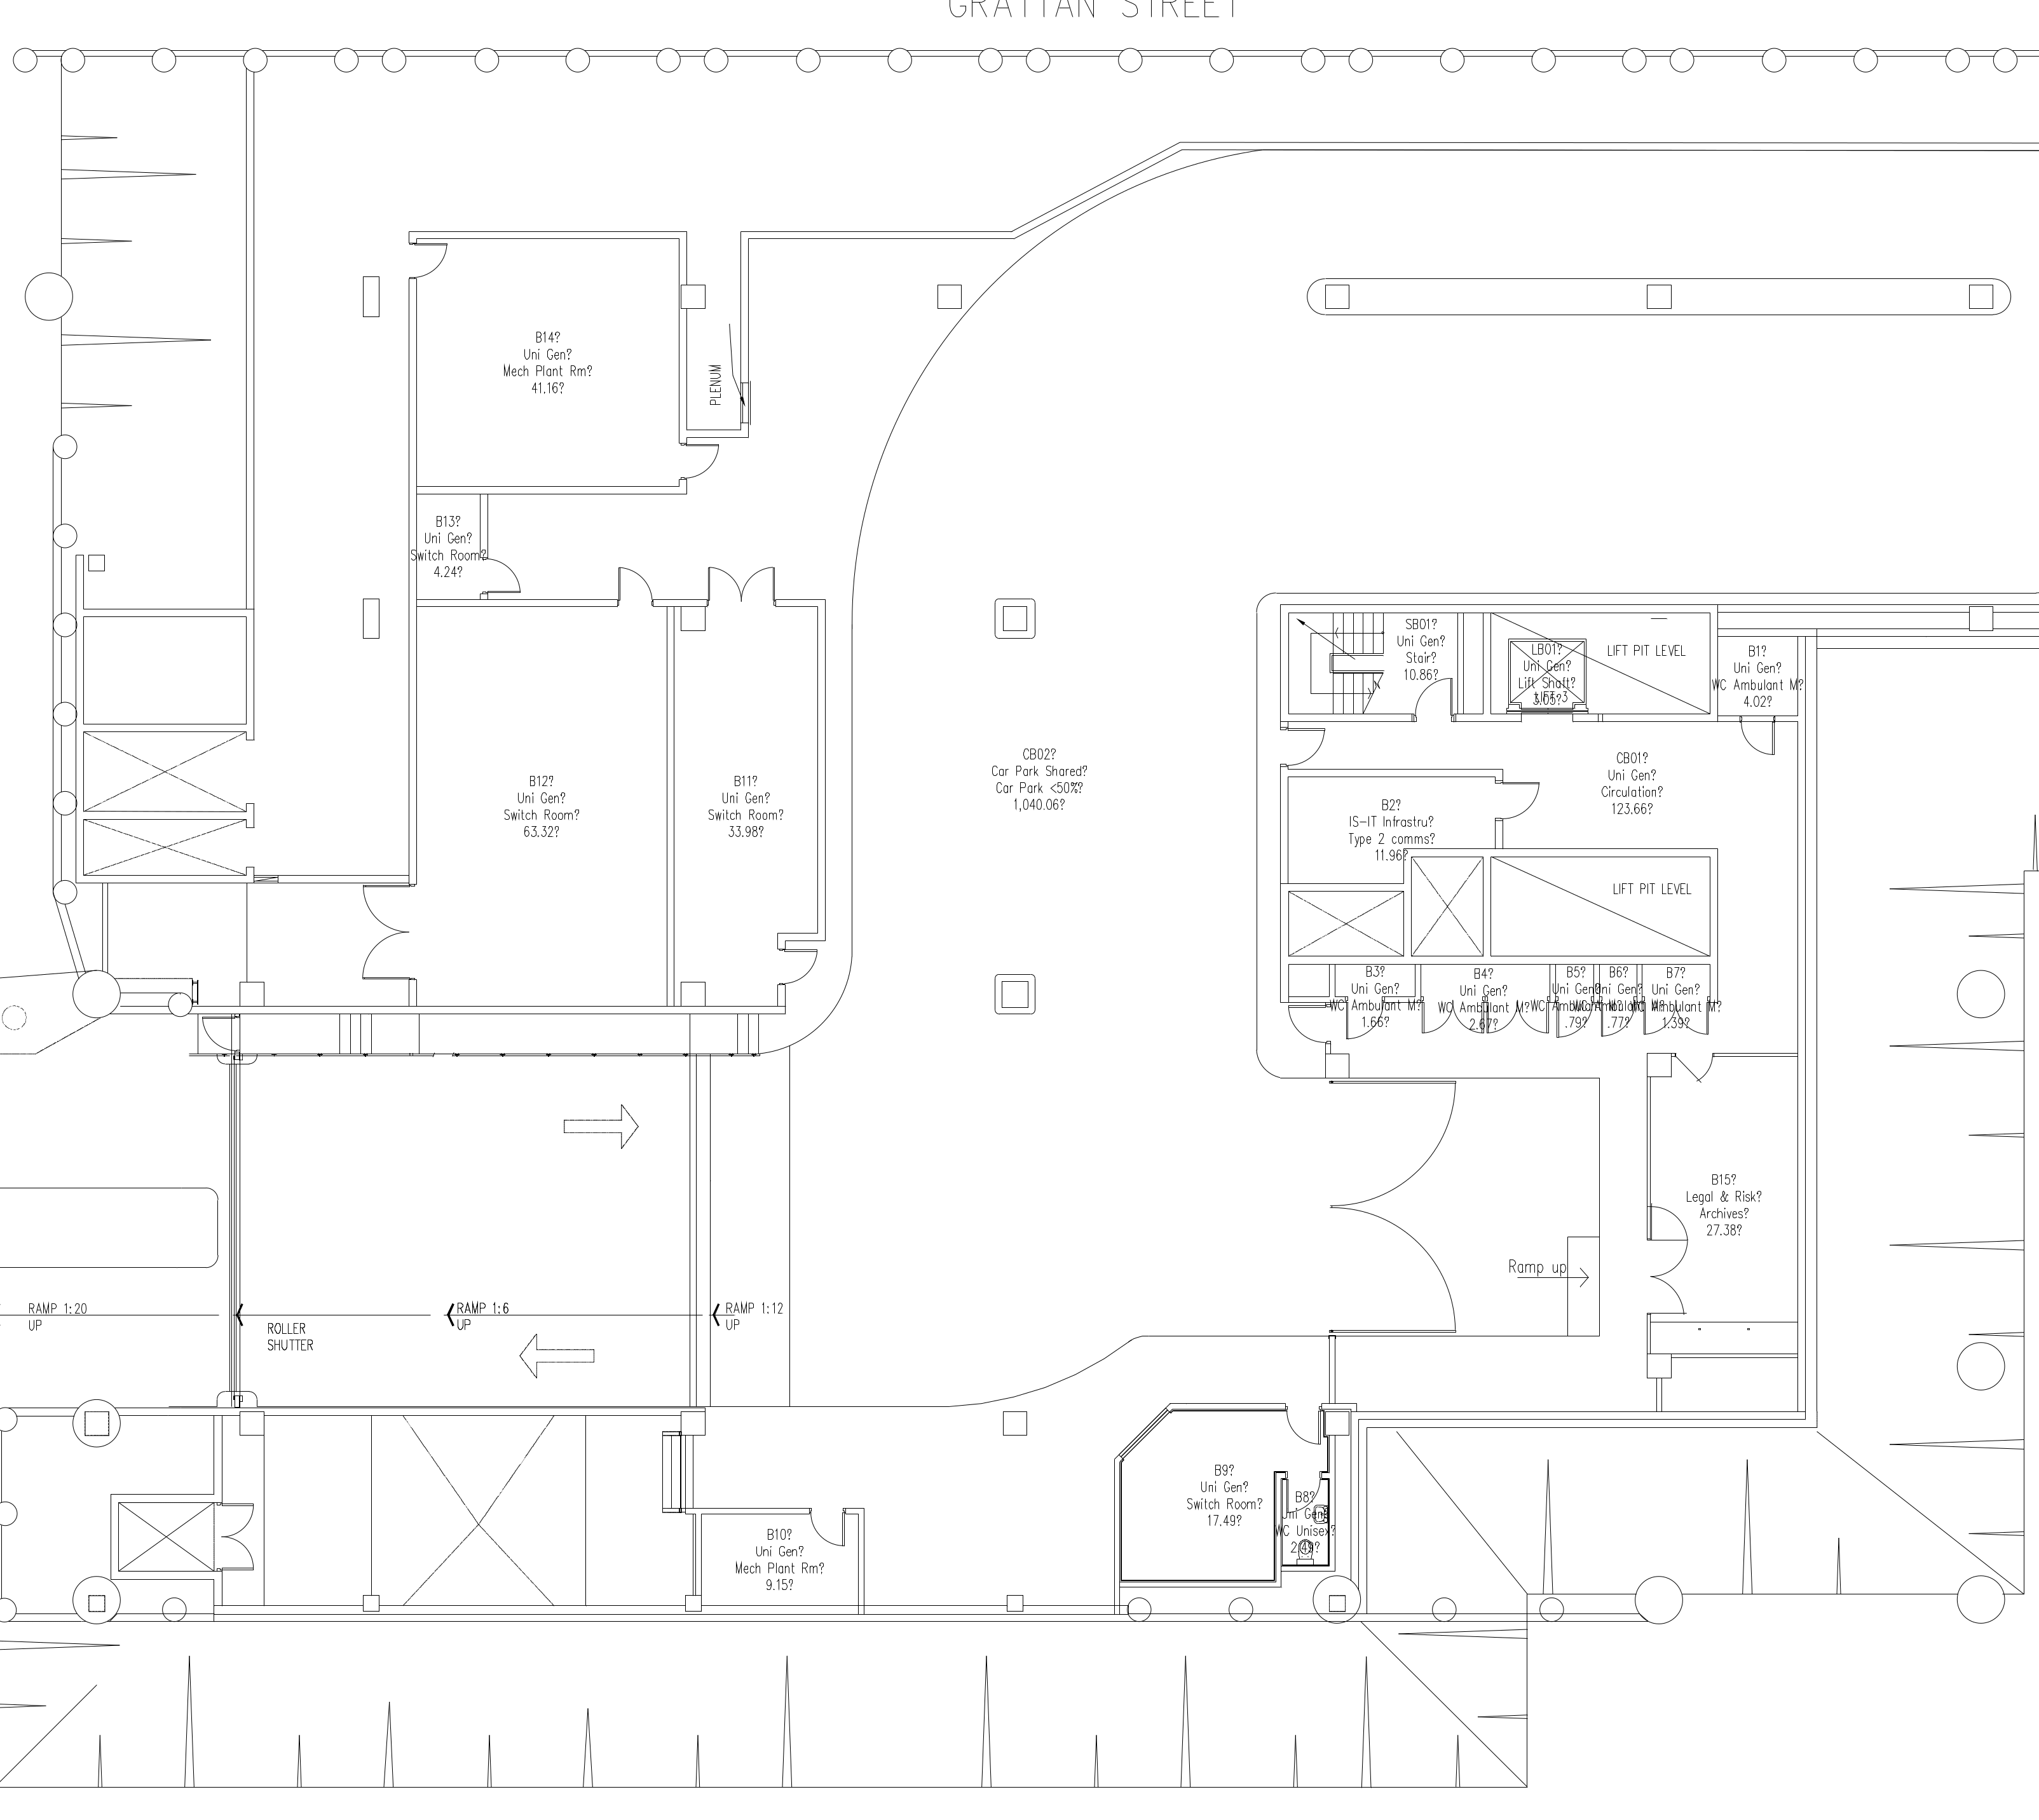room: (411, 564, 671, 1017), (403, 223, 724, 499), (668, 564, 835, 1019), (1109, 1400, 1331, 1592), (1645, 1049, 1800, 1323), (1283, 766, 1550, 889), (1484, 610, 1721, 726), (237, 875, 418, 1012), (1280, 603, 1464, 724), (693, 1502, 872, 1616), (76, 720, 262, 829), (399, 481, 538, 611), (76, 803, 262, 887), (1552, 956, 1724, 1045), (105, 1490, 262, 1583), (1419, 956, 1552, 1045), (1712, 625, 1805, 754), (1329, 956, 1422, 1049), (1273, 1469, 1334, 1572)
